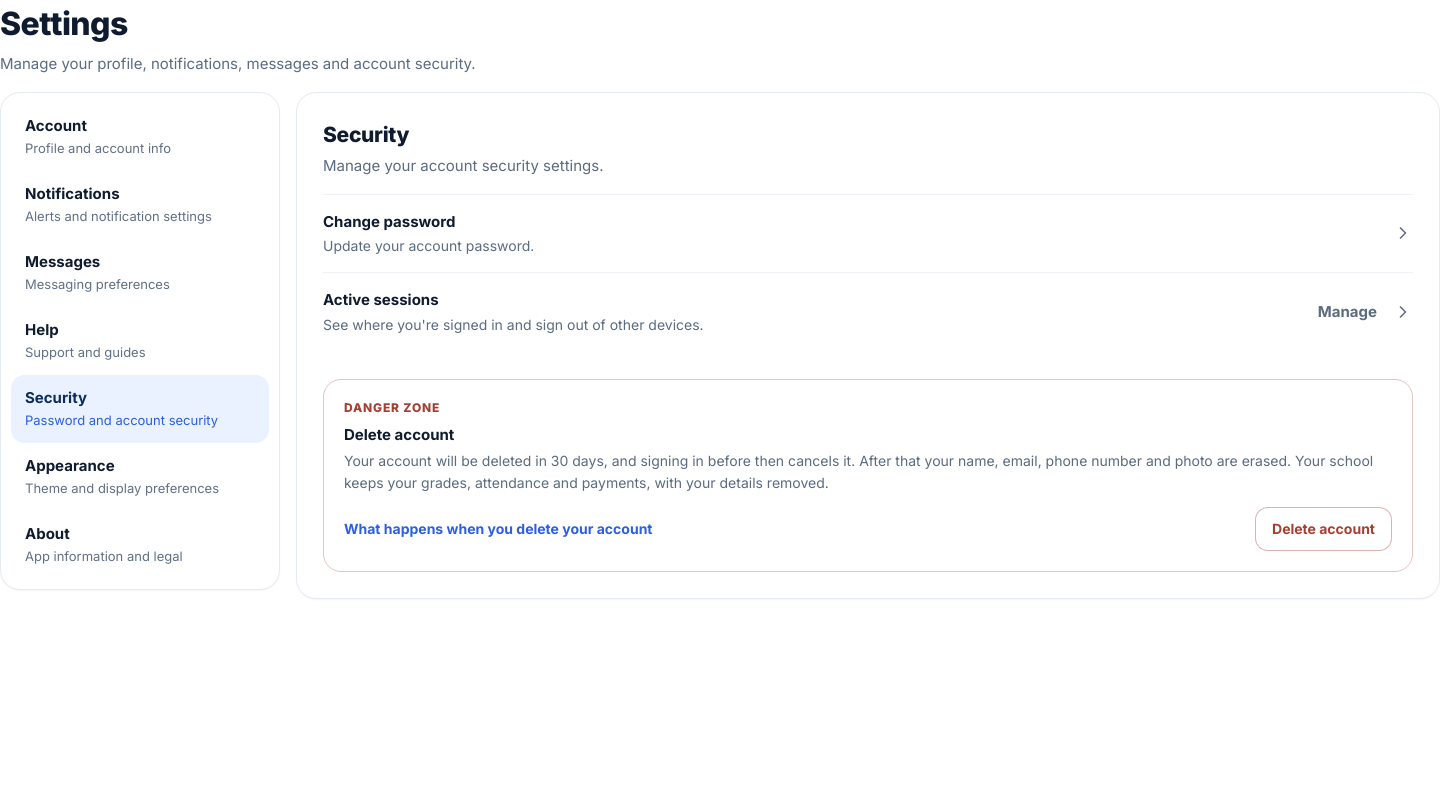
Test case: Sheets opened from the screen › opens the password sheet from Security
The width and height of the screenshot is (1440, 810).
Expected: the button "Active sessions" shows "Manage", [323,273,1413,350]
Step 1. Click the button "Change password Update your account password." → {"x": 389, "y": 221}, box [323,194,1413,272]
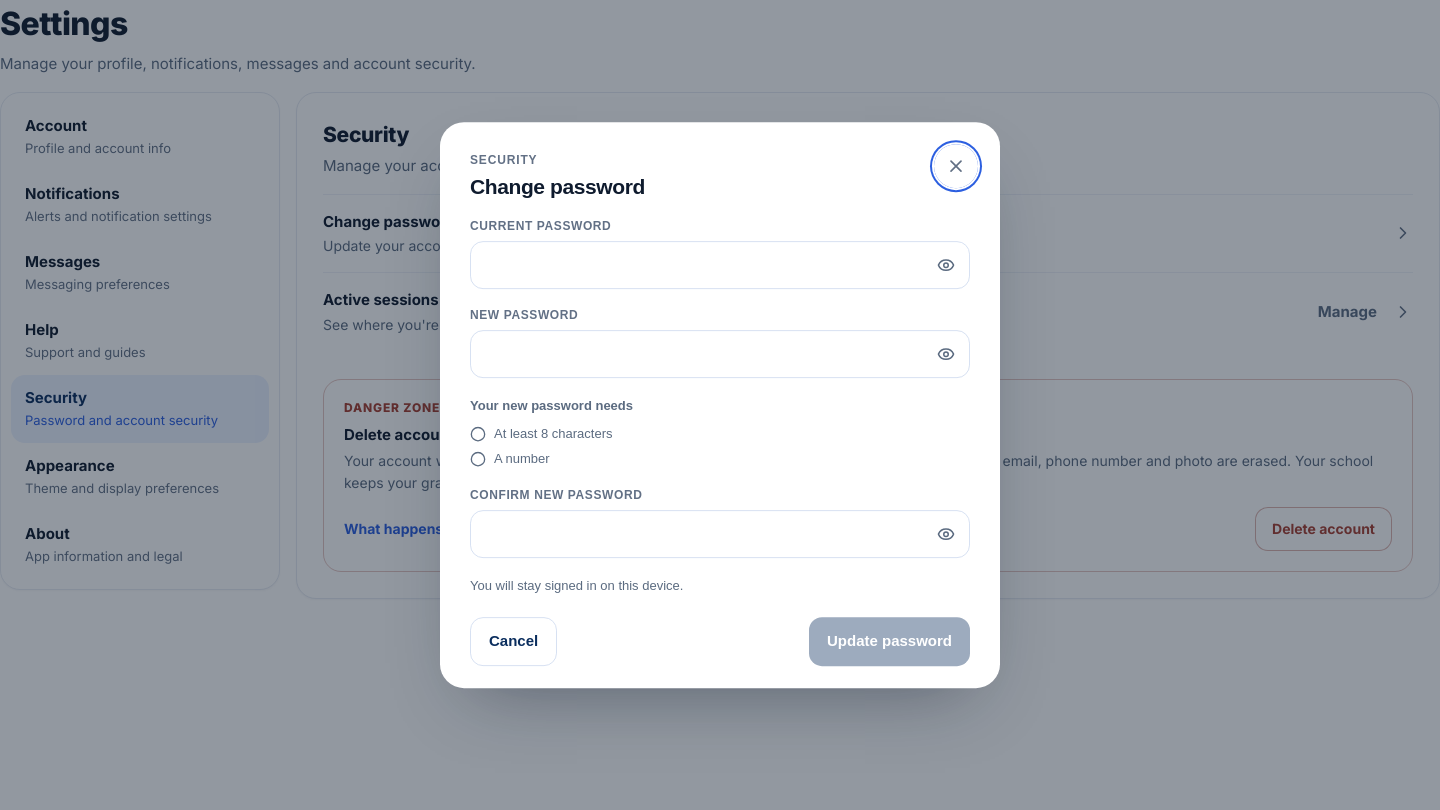
Now the dialog "Change password" is shown, box [440,122,1000,688]
